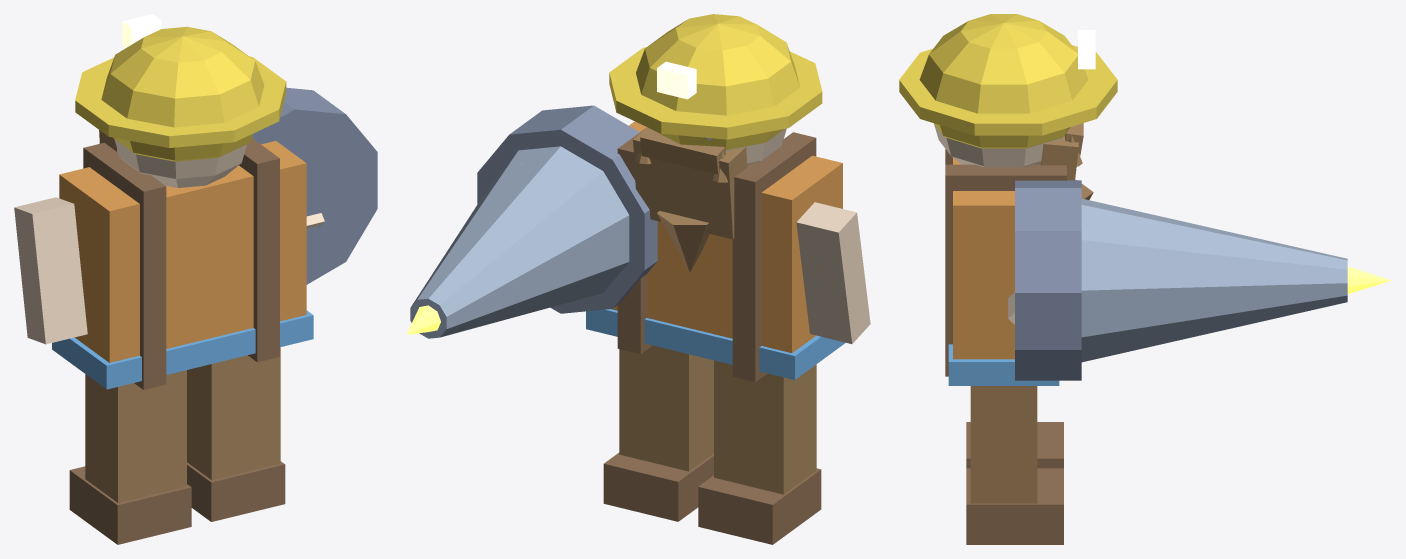
The model's file is mighty_miner.glb.
The picture shows the model from 3 angles, left to right: view 1: azimuth 30°, elevation 25°; view 2: azimuth 150°, elevation 25°; view 3: azimuth 270°, elevation 25°; orthographic projection.
Parts seen in each view (by area): view 1: mighty_miner; view 2: mighty_miner; view 3: mighty_miner.
Boxes of the visible parts, left/top/right/bottom form: mighty_miner: left=14, top=14, right=377, bottom=544; mighty_miner: left=406, top=14, right=870, bottom=544; mighty_miner: left=899, top=14, right=1391, bottom=544.
Size of the model in its own units: 2 by 2.63 by 2.45.
